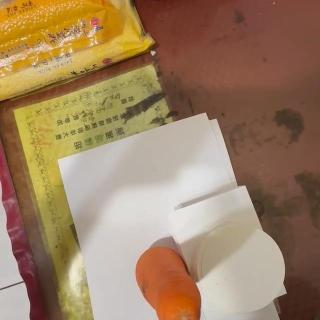carrot: (134, 245, 202, 320)
